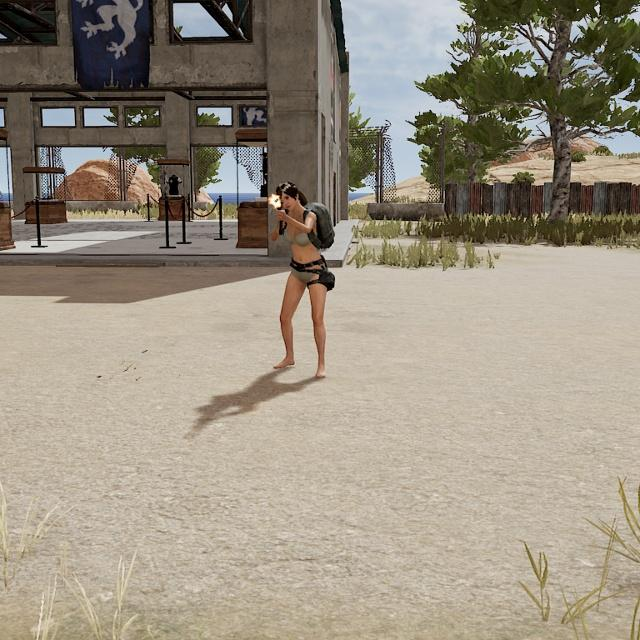head: (273, 180, 303, 215)
people: (271, 180, 335, 381)
